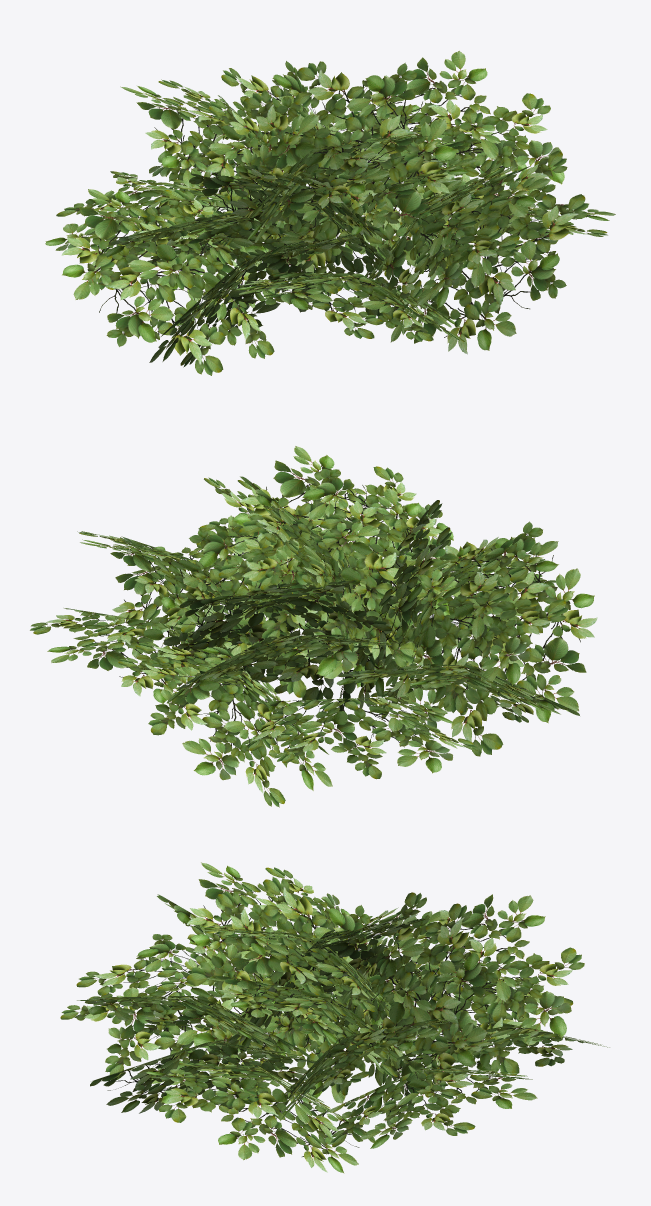
The model's file is MK4_CoverGround1.DAE.
3 renders of one model, top to bottom at view 1: azimuth 30°, elevation 25°; view 2: azimuth 150°, elevation 25°; view 3: azimuth 270°, elevation 25°, orthographic. The views are drawn at different scales.
Parts seen in each view (by area): view 1: MK4_CoverGround1; view 2: MK4_CoverGround1; view 3: MK4_CoverGround1.
Boxes of the visible parts, x1,y1,x2,y2 form: MK4_CoverGround1: [45, 50, 615, 375]; MK4_CoverGround1: [30, 446, 597, 807]; MK4_CoverGround1: [60, 862, 609, 1173].
Size of the model in its own units: 5.94 by 5.92 by 2.97.
